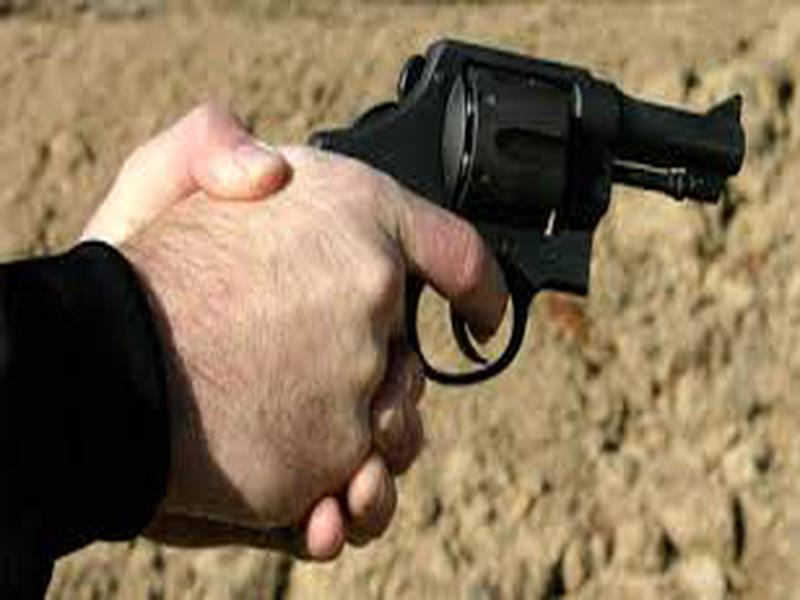Revolver: (293, 24, 762, 389)
